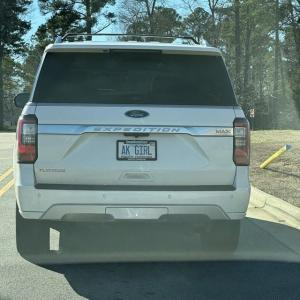Plate: (116, 140, 157, 161)
